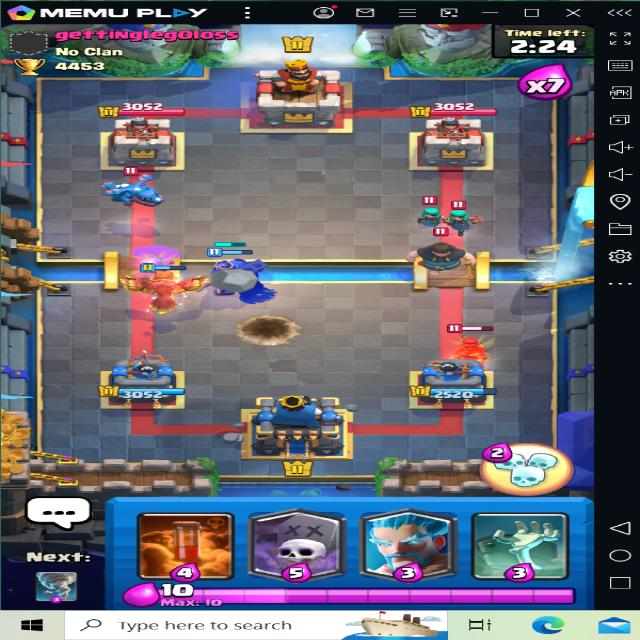electro-dragon: (101, 164, 164, 211)
ram-rider: (450, 325, 494, 369)
rascal-boy: (405, 228, 477, 272)
rascal-girl: (442, 196, 487, 230), (408, 199, 450, 229)
